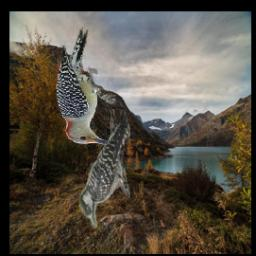Woodpecker: (56, 25, 116, 148), (79, 110, 130, 230)
